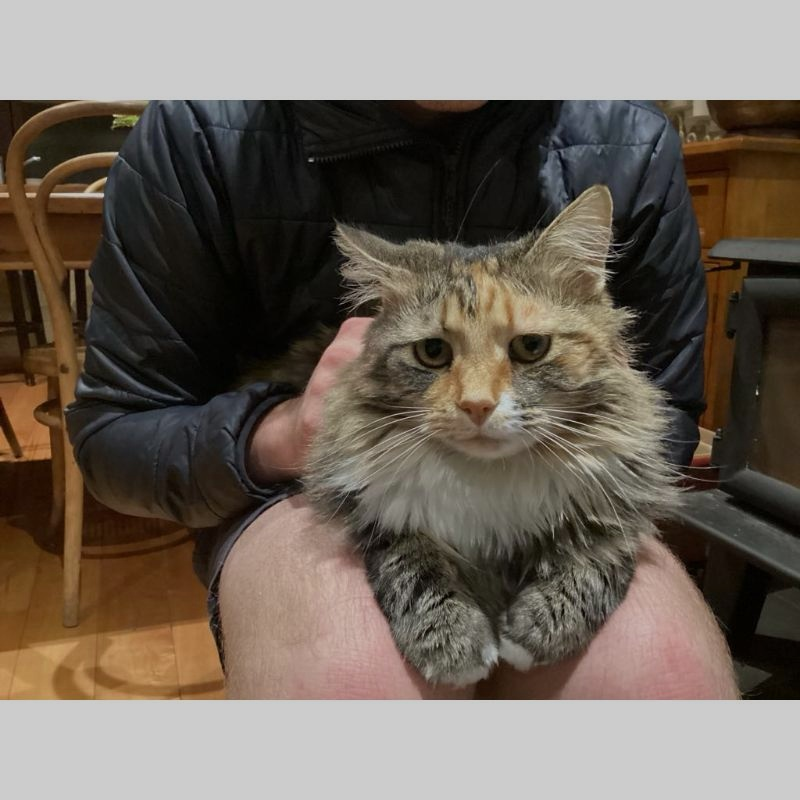red: (308, 182, 686, 690)
